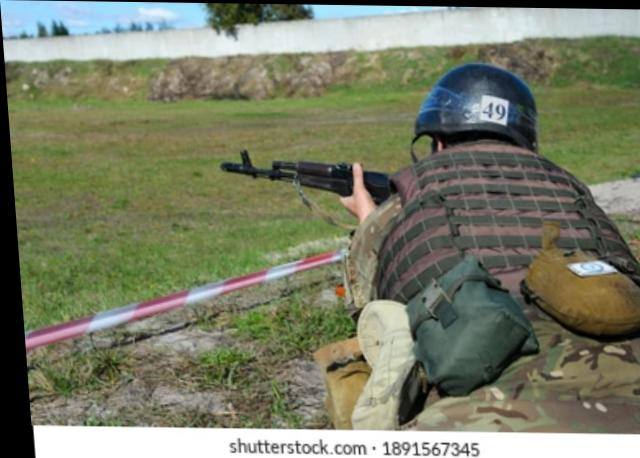other: (328, 59, 640, 429)
